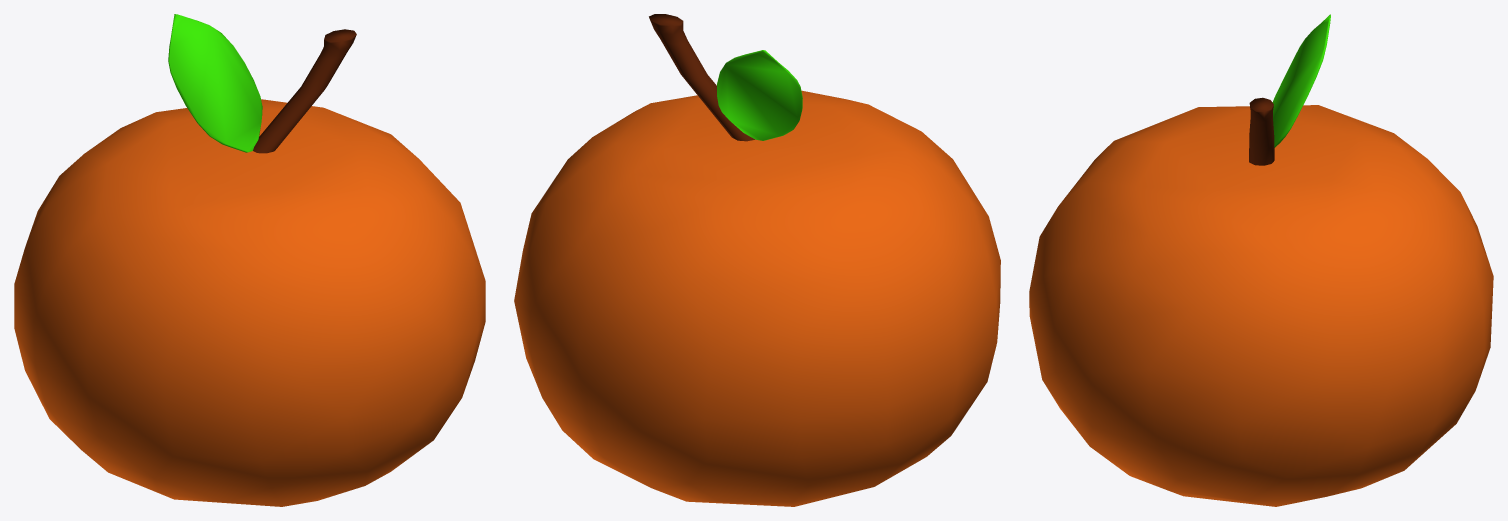
File: TangerinE 1.fbx
The picture shows the model from 3 angles, left to right: view 1: azimuth 30°, elevation 25°; view 2: azimuth 150°, elevation 25°; view 3: azimuth 270°, elevation 25°; orthographic projection. The views are drawn at different scales.
Parts seen in each view (by area): view 1: Sphere, Circle, Cylinder; view 2: Sphere, Circle, Cylinder; view 3: Sphere, Circle, Cylinder.
Part boxes in pixels (x1=…): Sphere: x1=14, y1=99, x2=485, y2=506; Circle: x1=168, y1=14, x2=262, y2=152; Cylinder: x1=253, y1=29, x2=356, y2=153; Sphere: x1=514, y1=90, x2=1000, y2=506; Circle: x1=717, y1=50, x2=802, y2=140; Cylinder: x1=649, y1=14, x2=754, y2=141; Sphere: x1=1029, y1=105, x2=1493, y2=506; Circle: x1=1272, y1=14, x2=1330, y2=147; Cylinder: x1=1249, y1=97, x2=1274, y2=165.
Bounding box in the file's own units: 211 × 218 × 211.
